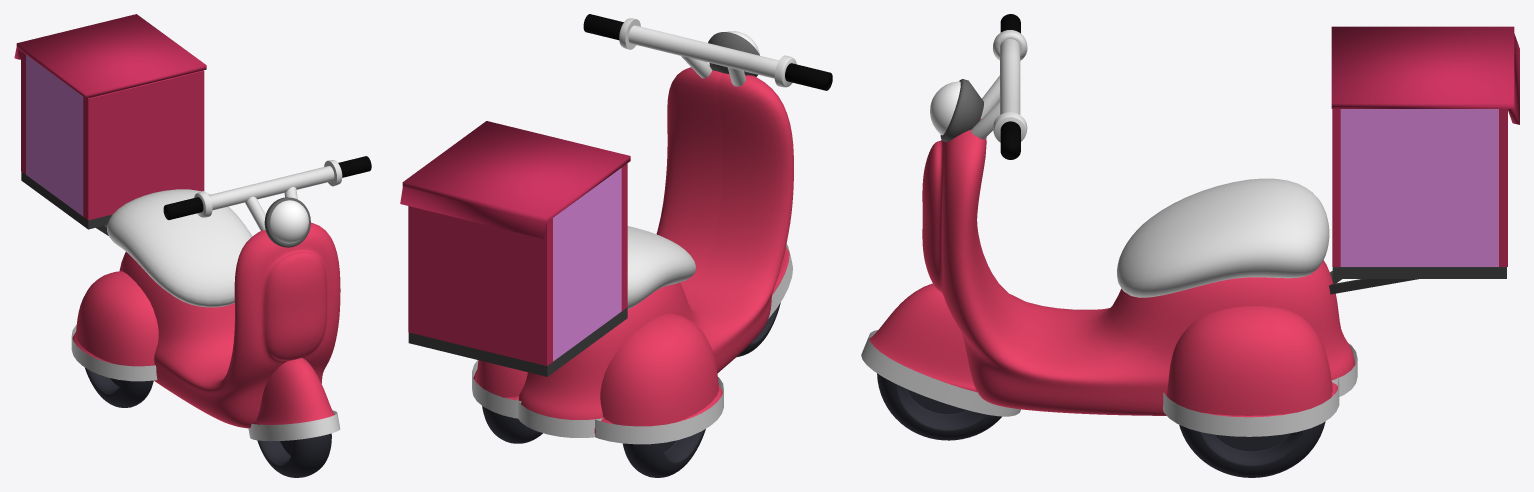
File: BeauBeauVespaDelivery.fbx
3 renders of one model, left to right at view 1: azimuth 30°, elevation 25°; view 2: azimuth 150°, elevation 25°; view 3: azimuth 270°, elevation 25°, orthographic. The views are drawn at different scales.
Visible parts, largest first — view 1: Cube, Cube.011, Cube.002, Cube.006, Cube.010, Cube.001, Cylinder.004, Cylinder.001, Cube.004, Cylinder.002, Cube.003, Sphere (+6 smaller); view 2: Cube, Cube.012, Cube.006, Cube.010, Cylinder.004, Cube.002, Cube.003, Cube.007, Cylinder.002, Cube.005, Cylinder, Cube.011 (+5 smaller); view 3: Cube, Cube.009, Cube.002, Cube.006, Cube.001, Cylinder, Cylinder.001, Cube.003, Cube.004, Cylinder.004, Cube.007, Cube.011 (+6 smaller).
Part boxes in pixels (x1,y1,x2,y2): Cube: (72, 222, 340, 428); Cube.011: (83, 71, 204, 220); Cube.002: (107, 189, 252, 307); Cube.006: (14, 14, 206, 98); Cube.010: (26, 55, 88, 216); Cube.001: (254, 358, 334, 424); Cylinder.004: (194, 160, 342, 217); Cylinder.001: (257, 433, 331, 477); Cube.004: (248, 410, 340, 441); Cylinder.002: (84, 367, 153, 407); Cube.003: (71, 325, 157, 381); Sphere: (270, 200, 308, 243); Cube: (473, 67, 793, 433); Cube.012: (408, 206, 552, 365); Cube.006: (400, 121, 630, 238); Cube.010: (553, 168, 621, 361); Cylinder.004: (619, 18, 796, 87); Cube.002: (627, 226, 695, 309); Cube.003: (472, 360, 723, 444); Cube.007: (408, 307, 627, 376); Cylinder.002: (622, 429, 705, 477); Cube.005: (516, 398, 602, 437); Cylinder: (482, 406, 542, 443); Cube.011: (621, 163, 627, 310); Cube: (922, 119, 1355, 417); Cube.009: (1340, 109, 1498, 266); Cube.002: (1117, 178, 1329, 297); Cube.006: (1331, 26, 1519, 124); Cube.001: (869, 283, 976, 392); Cylinder: (1179, 421, 1325, 477); Cylinder.001: (877, 373, 1001, 440); Cube.003: (1163, 377, 1339, 436); Cube.004: (861, 330, 1020, 416); Cylinder.004: (993, 30, 1027, 142); Cube.007: (1332, 267, 1506, 278); Cube.011: (1332, 109, 1340, 266).
Bounding box in the file's own units: 319 × 437 × 697.
